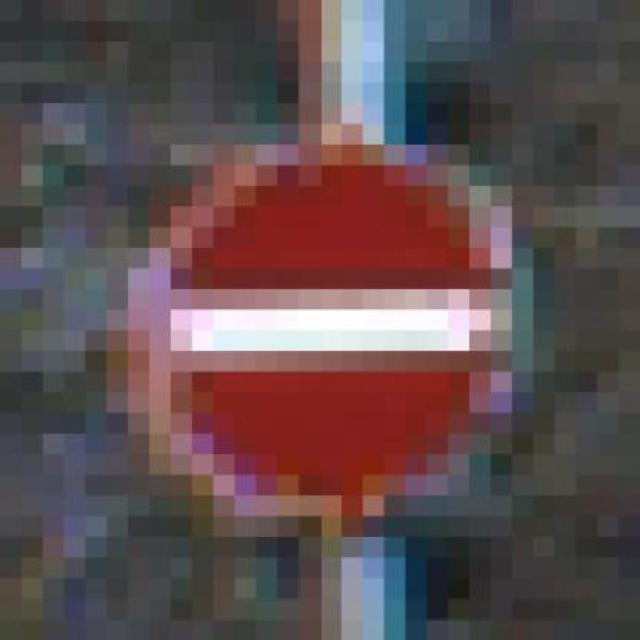B2: (146, 157, 510, 508)
